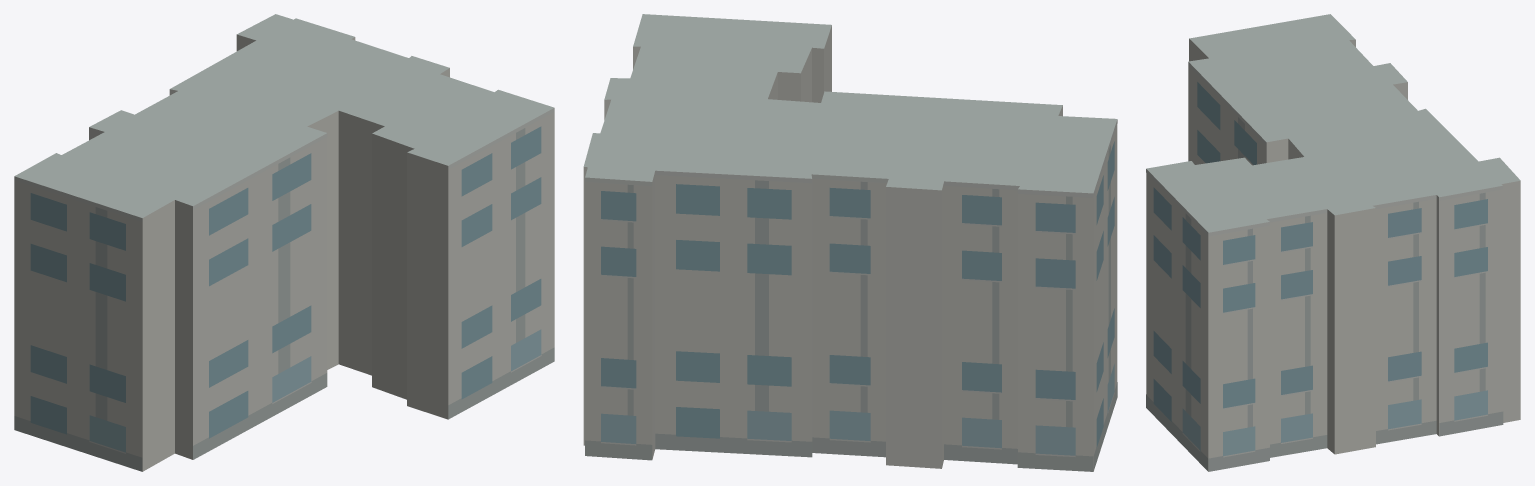
The model's file is survey-upis-32616636.glb.
The picture shows the model from 3 angles, left to right: view 1: azimuth 30°, elevation 25°; view 2: azimuth 150°, elevation 25°; view 3: azimuth 270°, elevation 25°; orthographic projection. The views are drawn at different scales.
Visible parts, largest first — view 1: survey-upis-32616636.tmp; view 2: survey-upis-32616636.tmp; view 3: survey-upis-32616636.tmp.
Boxes of the visible parts, x1=… form: survey-upis-32616636.tmp: x1=14, y1=14, x2=554, y2=471; survey-upis-32616636.tmp: x1=583, y1=14, x2=1117, y2=471; survey-upis-32616636.tmp: x1=1146, y1=14, x2=1520, y2=471.
Bounding box in the file's own units: 29.82 × 15.2 × 21.59.
